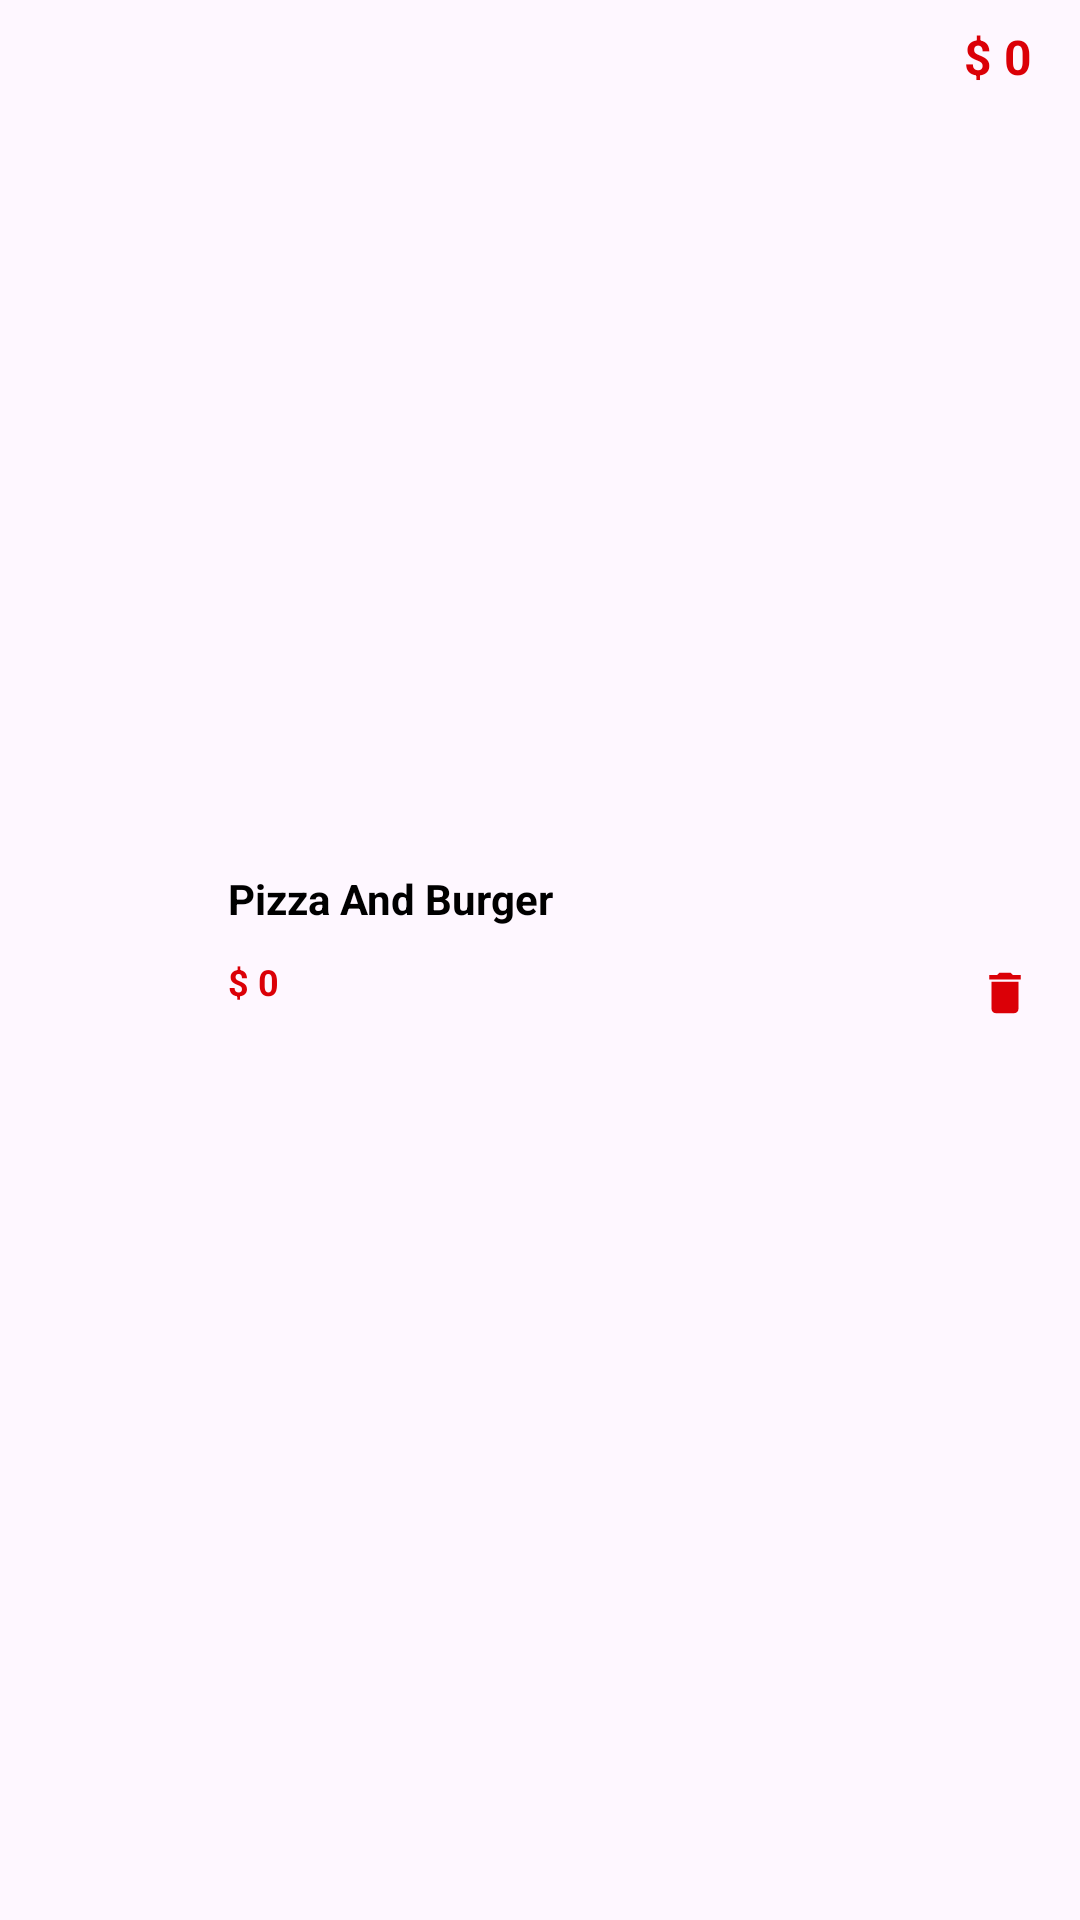

Icon click points for this 1080*1920 phone screenshot, format (x=x, y=y):
delete: (x=1005, y=993)
